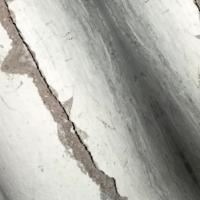crack: (0, 2, 112, 199)
